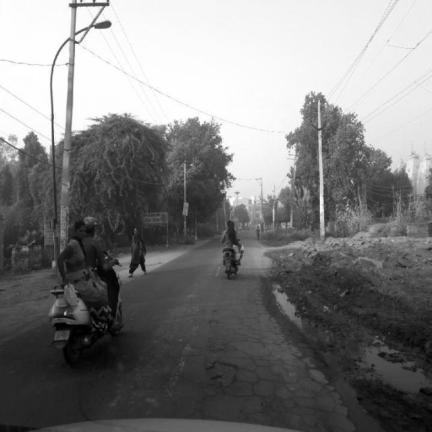Road: (0, 232, 353, 431)
